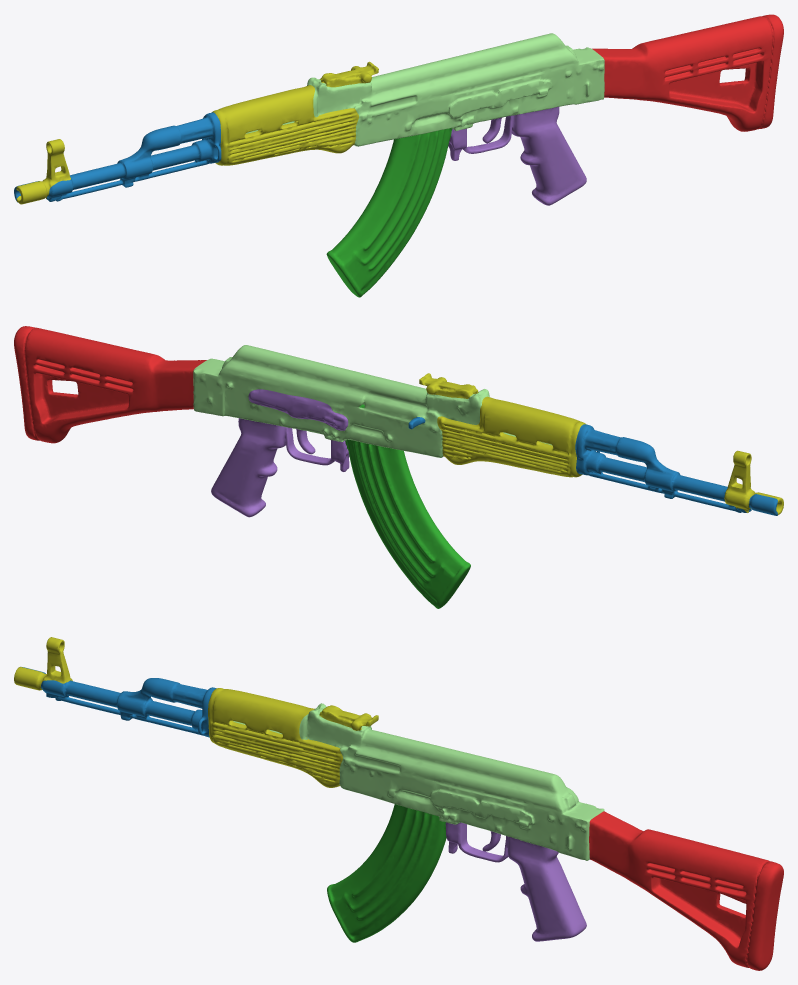
The picture shows the model from 3 angles, top to bottom: view 1: azimuth 30°, elevation 25°; view 2: azimuth 150°, elevation 25°; view 3: azimuth 330°, elevation 25°; orthographic projection.
Visible parts, largest first — view 1: model_part16, model_part9, model_part15, model_part0, model_part14, model_part13, model_part12, model_part4; view 2: model_part16, model_part9, model_part15, model_part0, model_part13, model_part14, model_part7, model_part12, model_part4; view 3: model_part16, model_part9, model_part15, model_part0, model_part13, model_part14, model_part12, model_part4.
Boxes of the visible parts, x1,y1,x2,y2 form: model_part16: (307,33,604,146); model_part9: (592,14,783,131); model_part15: (326,128,452,297); model_part0: (212,85,358,165); model_part14: (46,112,221,201); model_part13: (448,106,586,205); model_part12: (16,139,70,204); model_part4: (320,61,378,87); model_part16: (193,345,489,457); model_part9: (14,326,206,443); model_part15: (345,439,470,608); model_part0: (437,396,586,477); model_part13: (211,418,349,517); model_part14: (575,424,751,512); model_part7: (248,389,348,430); model_part12: (724,450,783,514); model_part4: (419,373,478,398); model_part16: (299,703,604,860); model_part9: (589,811,783,970); model_part15: (327,804,446,942); model_part0: (208,688,342,787); model_part13: (445,822,586,941); model_part14: (41,678,216,737); model_part12: (14,637,72,690); model_part4: (319,705,378,730).
Size of the model in its own units: 0.88 by 0.2528 by 0.0607.
